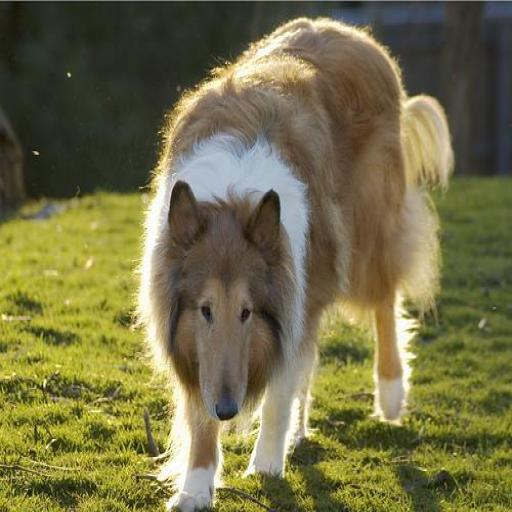dog_face: (139, 180, 297, 426)
